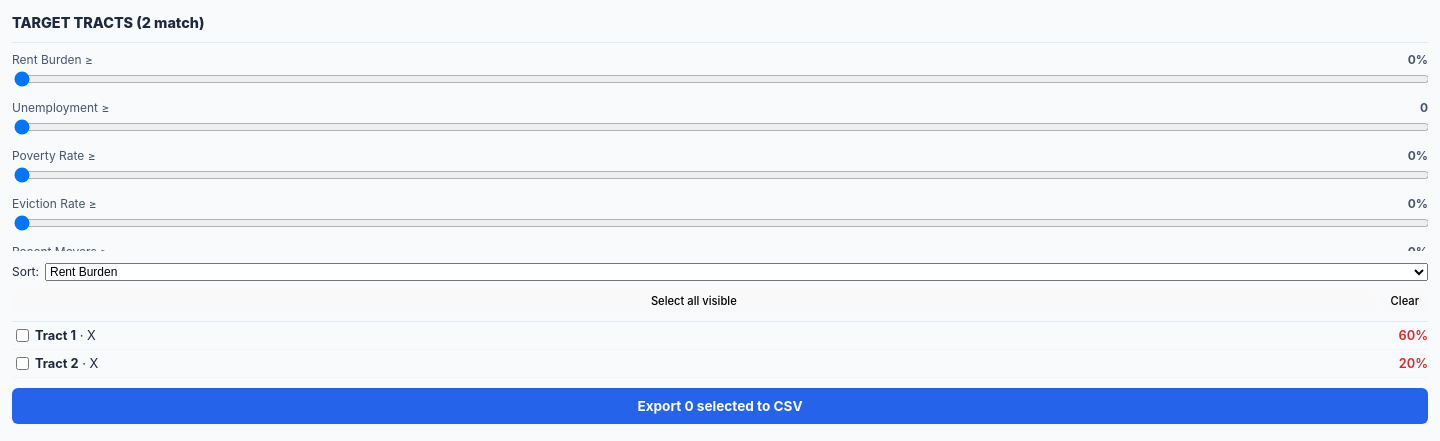
TargetingPanel — threshold filtering › moving rent burden slider filters out tracts below threshold
This screenshot has width=1440, height=441.
Check: the text "Tract 1" is shown, box [35,328,76,343]
Check: the text "Tract 2" is shown, box [35,356,79,371]
# Find rent_burden slider — it's the first range input
Set the slider below "Rent Burden ≥" to "50" at x=722, y=79, box [14,71,1430,87]
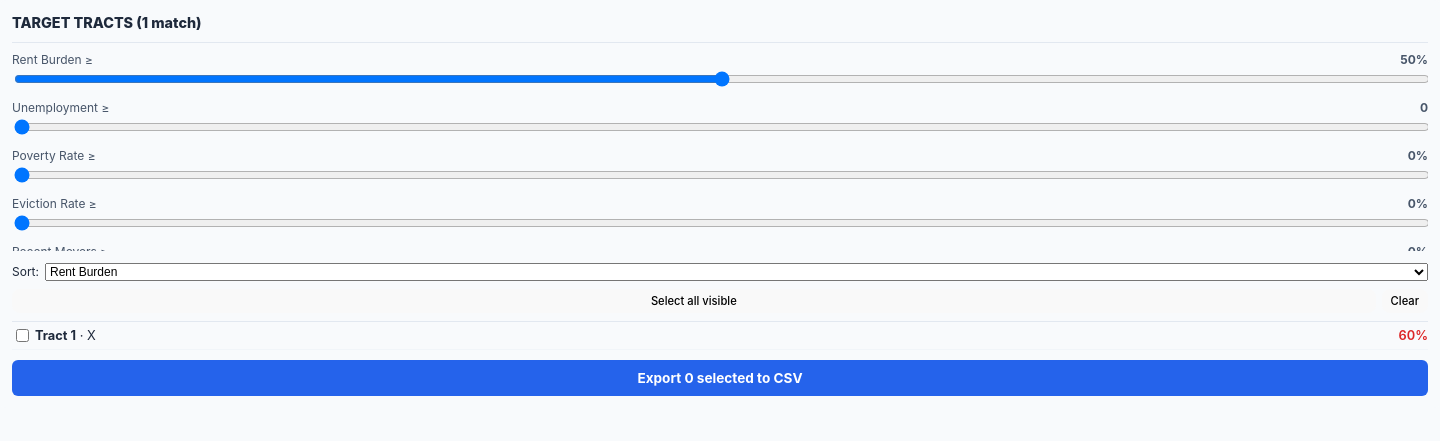
Check: the text "Tract 1" is shown, box [35,328,76,343]
Check: the text "Tract 2" is gone
Check: the text "TARGET TRACTS (1 match)" is shown, box [12,14,202,31]
